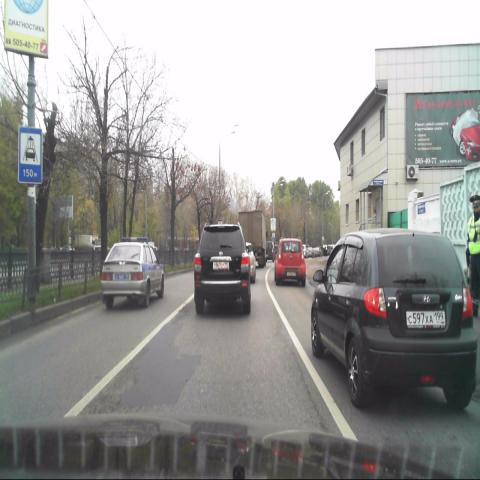7_5: (18, 126, 43, 183)
